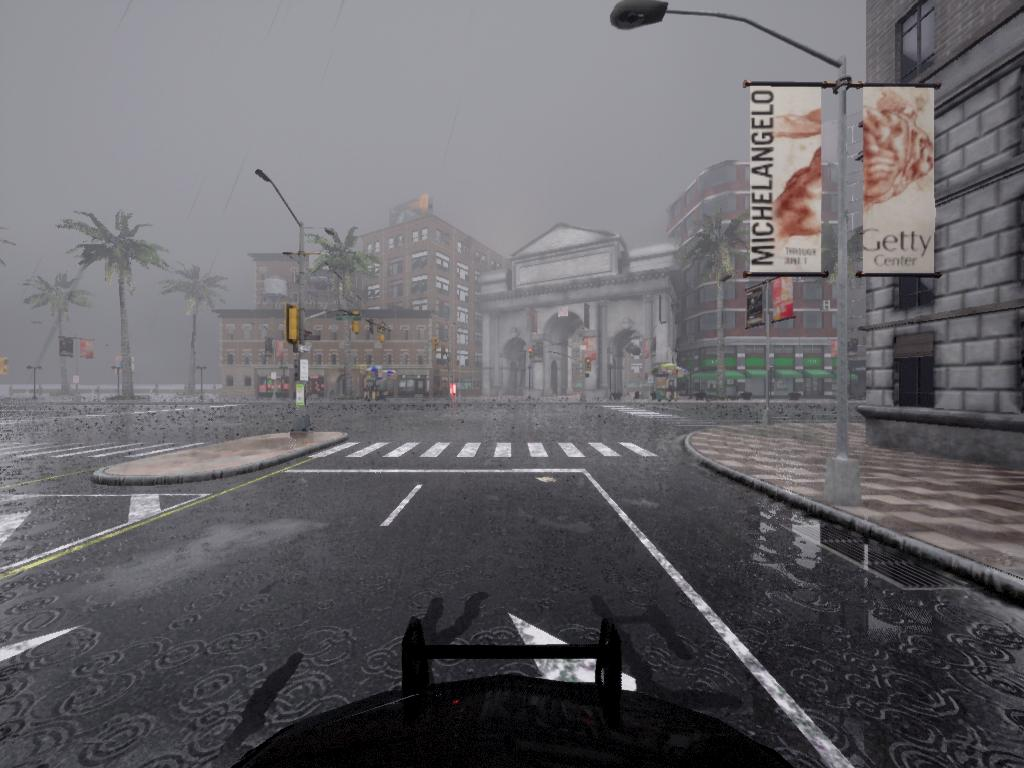traffic_light: (287, 306, 305, 343), (354, 319, 365, 338), (380, 323, 387, 343), (585, 358, 593, 375), (432, 338, 439, 354), (528, 347, 534, 363), (441, 344, 446, 358)
